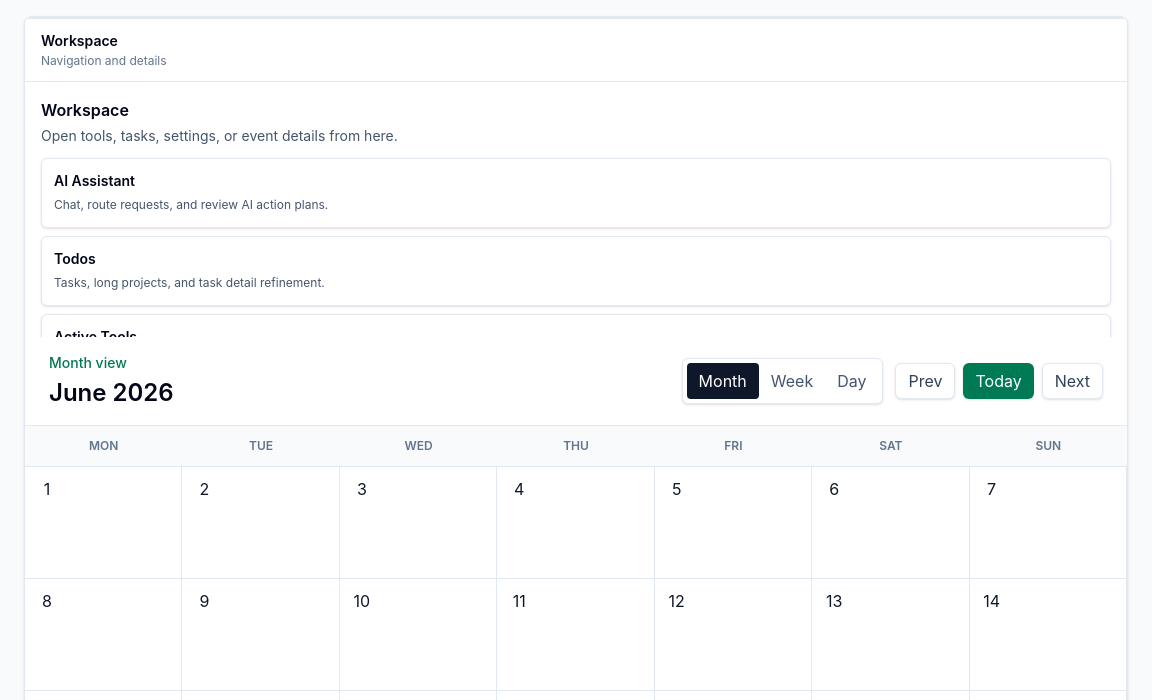
Todo panel › keeps the todo type list editable by users
Click the button "Todos".
click(75, 258)  # box [41,236,1111,306]
(page scrolled)
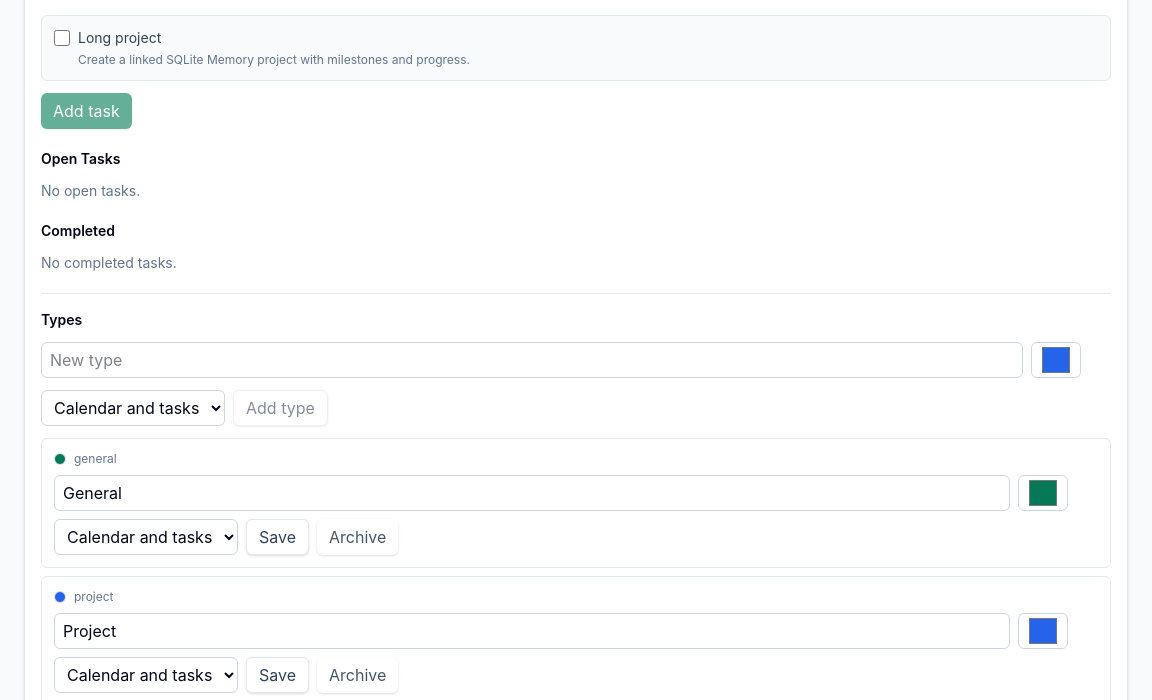
Type "Client Work" into the field named "New type label".
click(532, 360); type("Client Work")  # box [41,342,1023,378]
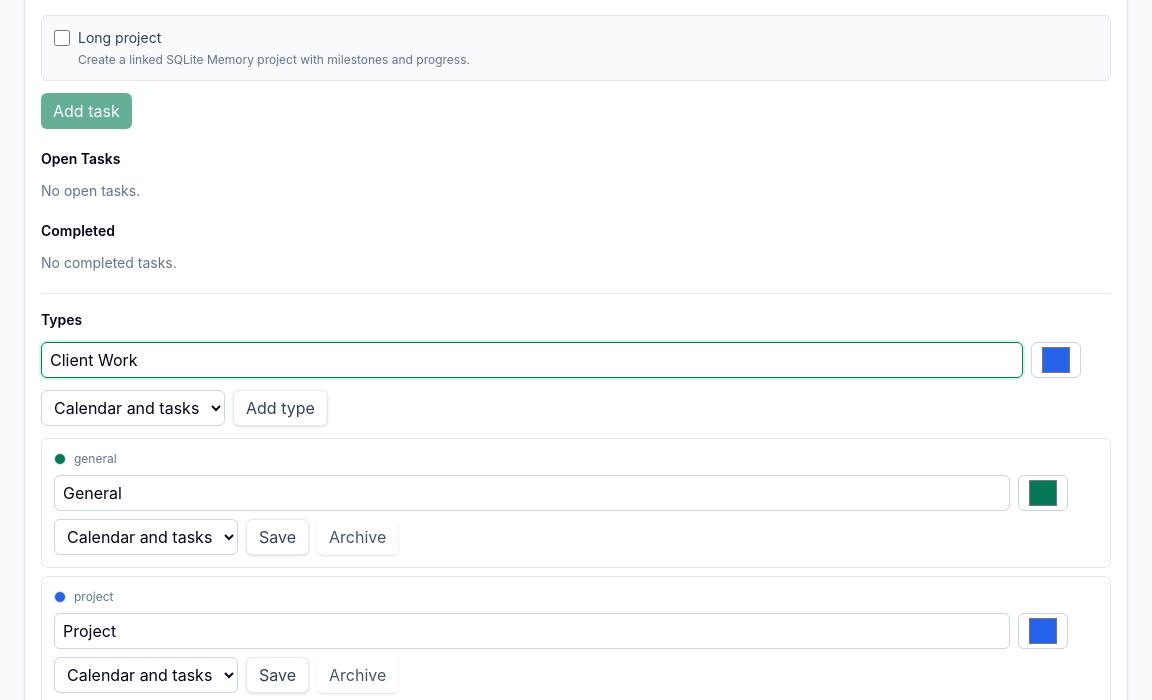
Click the button "Add type".
click(280, 408)  # box [233,390,328,426]
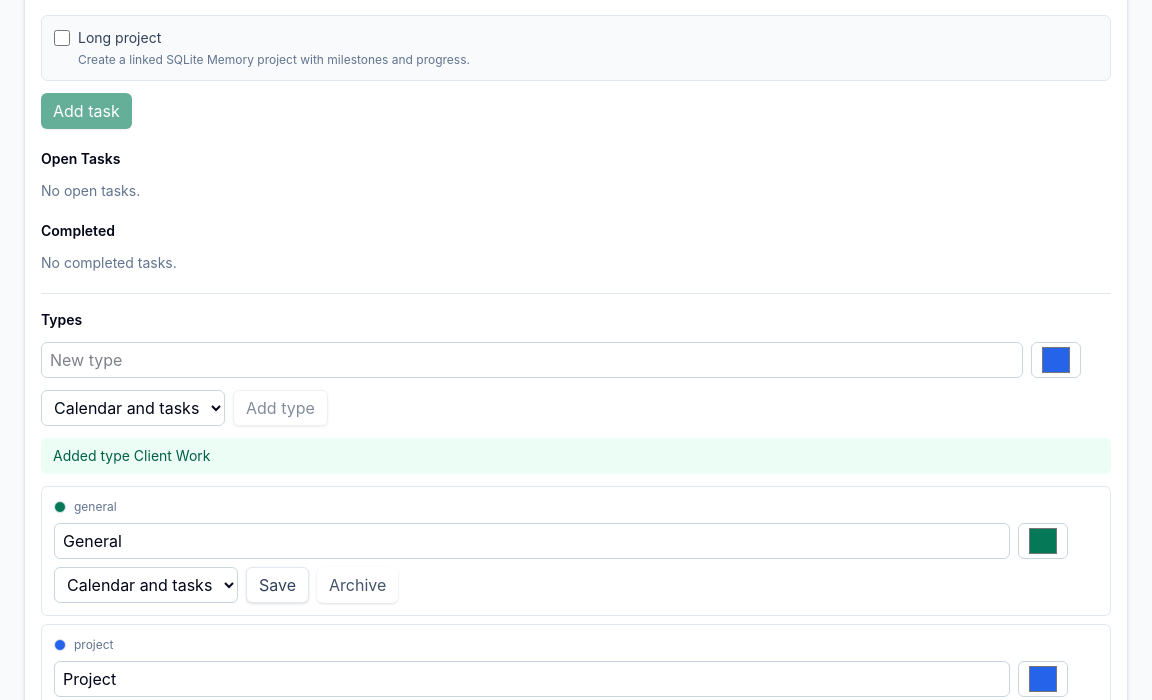
Result: the text "Added type Client Work" is shown at [41,438,1111,474]
